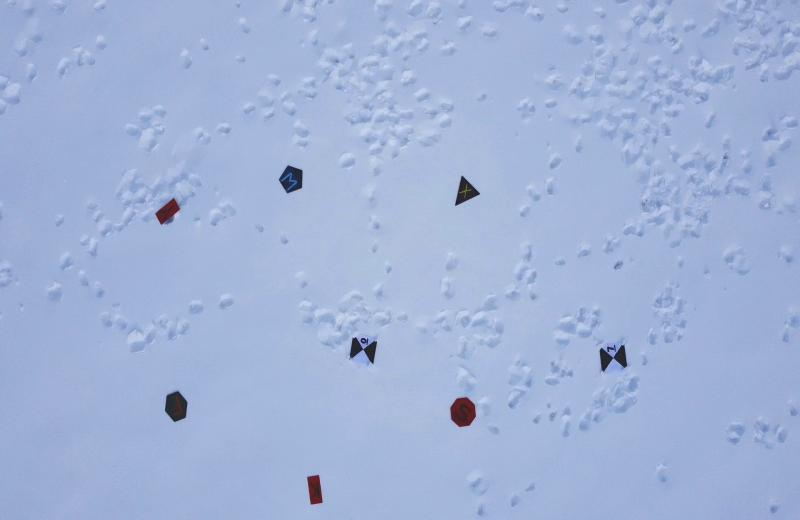Hexagon: (163, 389, 191, 425)
Octagon: (447, 394, 477, 431)
Pentagon: (276, 162, 306, 196)
Rectangle: (152, 194, 184, 231), (302, 470, 326, 508)
Triangle: (452, 172, 482, 210)
